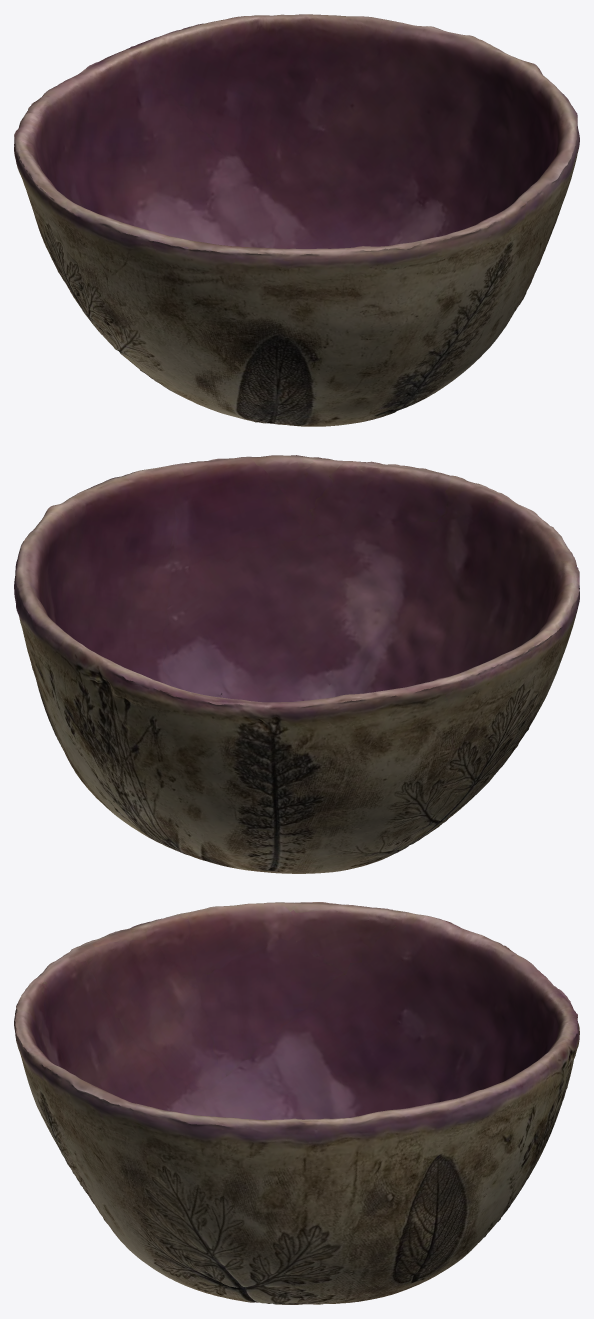
The model's file is olivia_ceramic_bowl-transformed.glb.
3 renders of one model, top to bottom at view 1: azimuth 30°, elevation 25°; view 2: azimuth 150°, elevation 25°; view 3: azimuth 270°, elevation 25°, orthographic. The views are drawn at different scales.
Visible parts, largest first — view 1: meshes[0]__0; view 2: meshes[0]__0; view 3: meshes[0]__0.
Part boxes in pixels (<box>): meshes[0]__0: <box>14,14,579,426</box>; meshes[0]__0: <box>14,455,579,873</box>; meshes[0]__0: <box>14,902,579,1304</box>.
Bounding box in the file's own units: 0.0055 × 0.00282 × 0.00559.
1 material, 1 textured.
